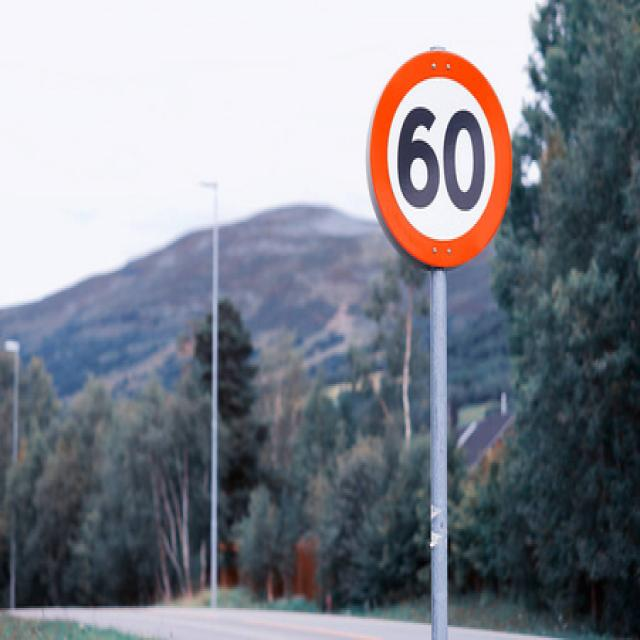speed limit 60: (369, 53, 513, 269)
